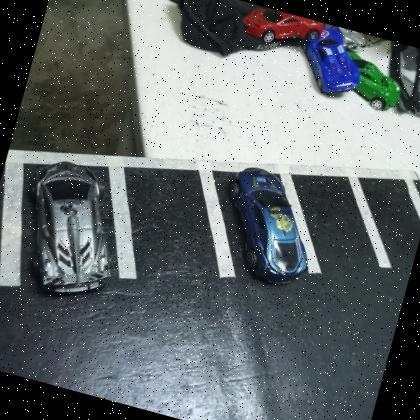Car: (5, 151, 138, 306), (205, 160, 330, 294)
